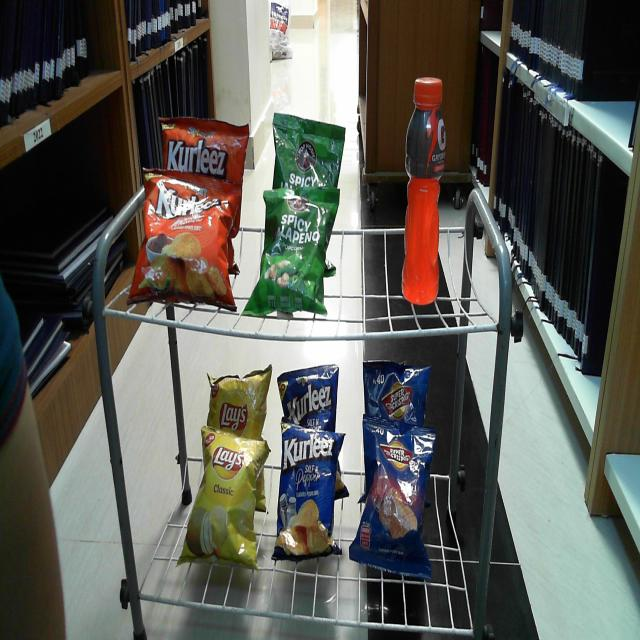Plastic: (132, 180, 238, 308), (356, 426, 436, 576), (182, 435, 268, 569), (402, 76, 448, 305), (248, 191, 334, 312), (276, 428, 340, 558), (158, 109, 250, 180), (272, 108, 346, 190), (207, 362, 274, 430), (362, 356, 432, 421), (278, 360, 339, 426)
